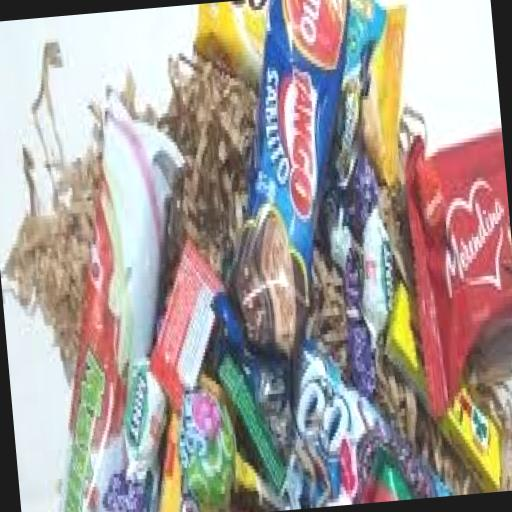merendina: (373, 106, 512, 423)
